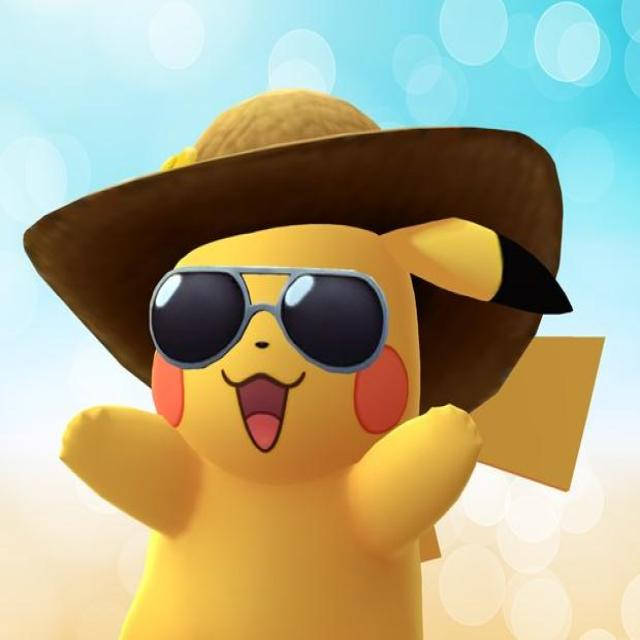pikachu: (59, 215, 604, 640)
